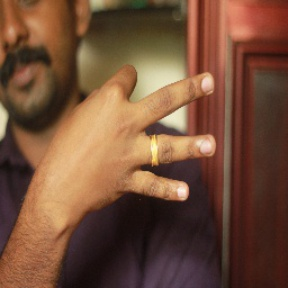K: (37, 62, 222, 210)
